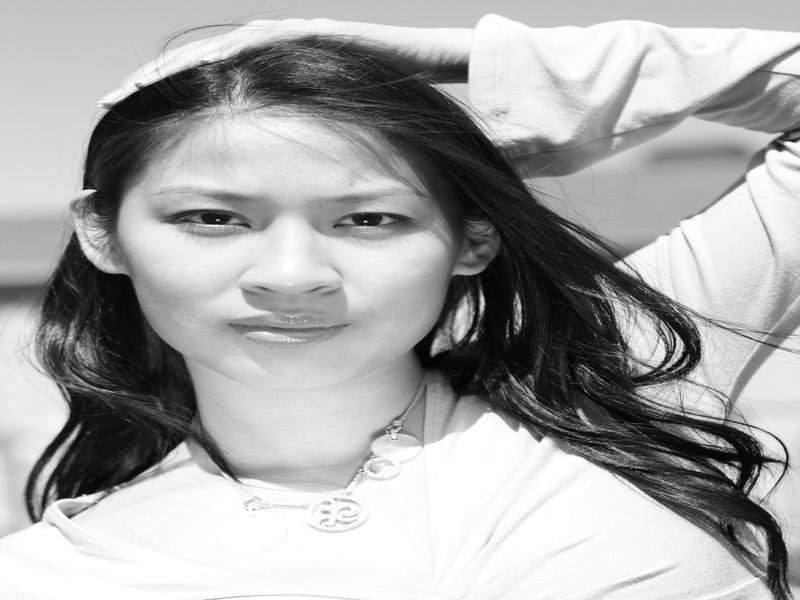person: (26, 22, 790, 600)
